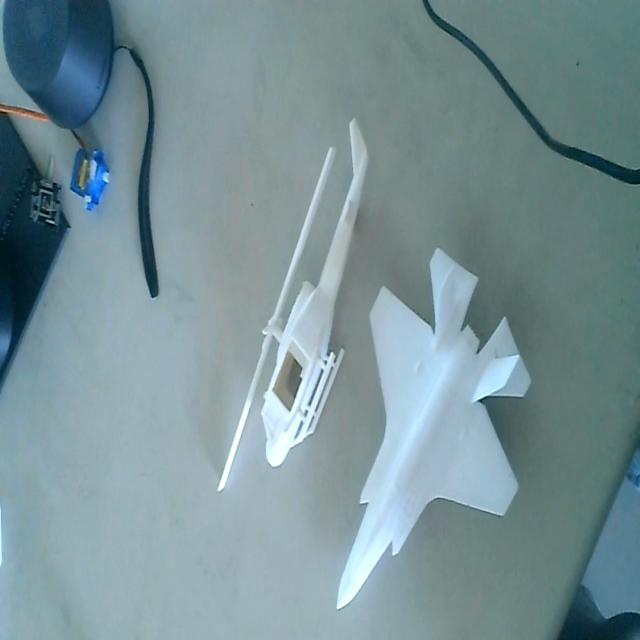Helicopter: (216, 119, 369, 479)
Jet: (336, 240, 531, 614)
